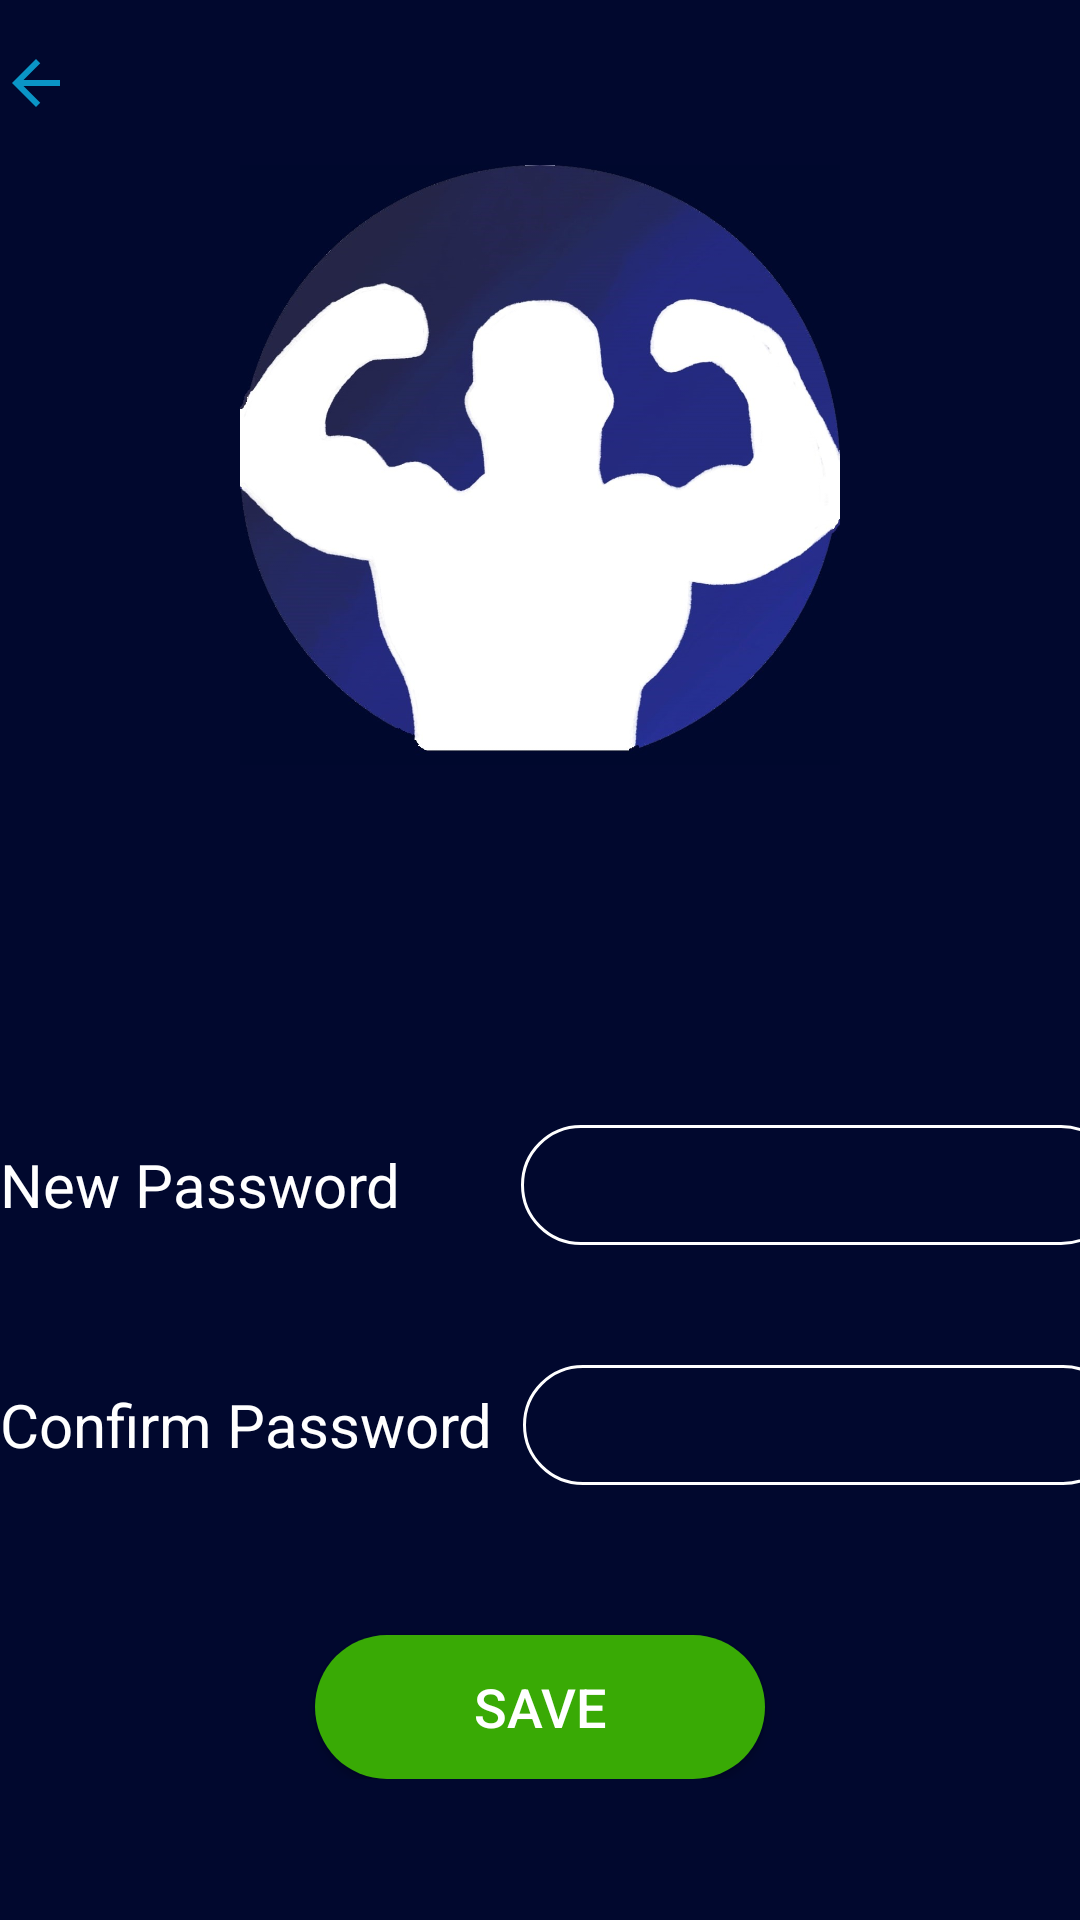

Screen size 1080 × 1920. Icon name, then its center in pixels as [x,y]:
arrow back short: [36,83]
